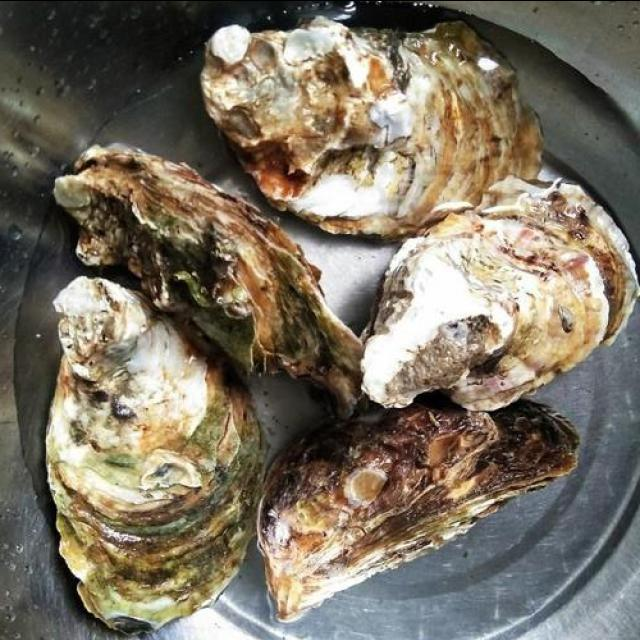Oyster- Indeterminate: (197, 1, 549, 237), (43, 273, 261, 635), (258, 404, 580, 621), (362, 175, 636, 412)
Oyster-Closed: (54, 144, 366, 412)
